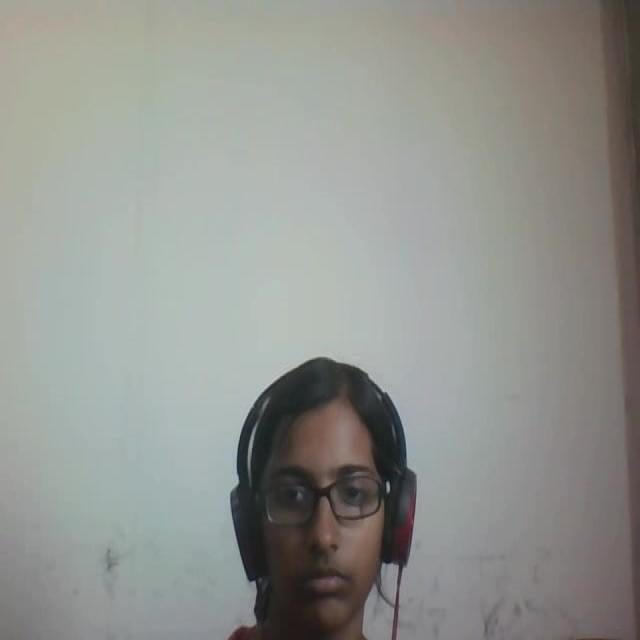Engaged: (205, 334, 436, 640)
